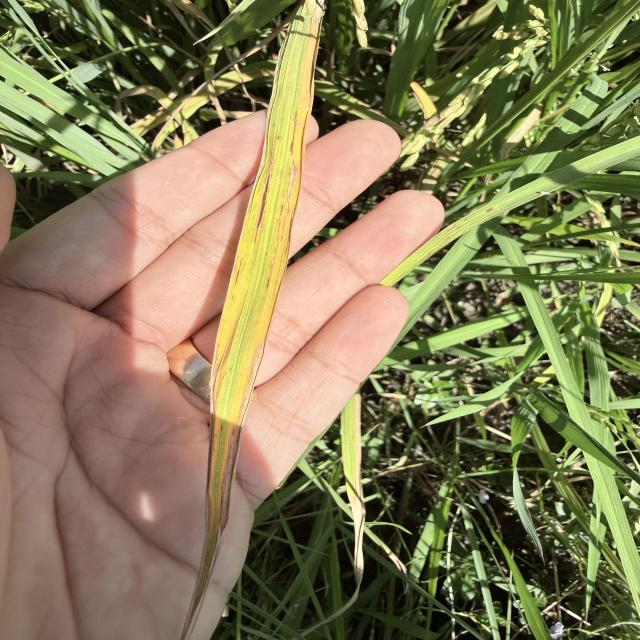Chay bia la: (186, 339, 265, 640), (183, 353, 217, 640)
